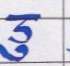u_matra: (0, 43, 31, 61)
